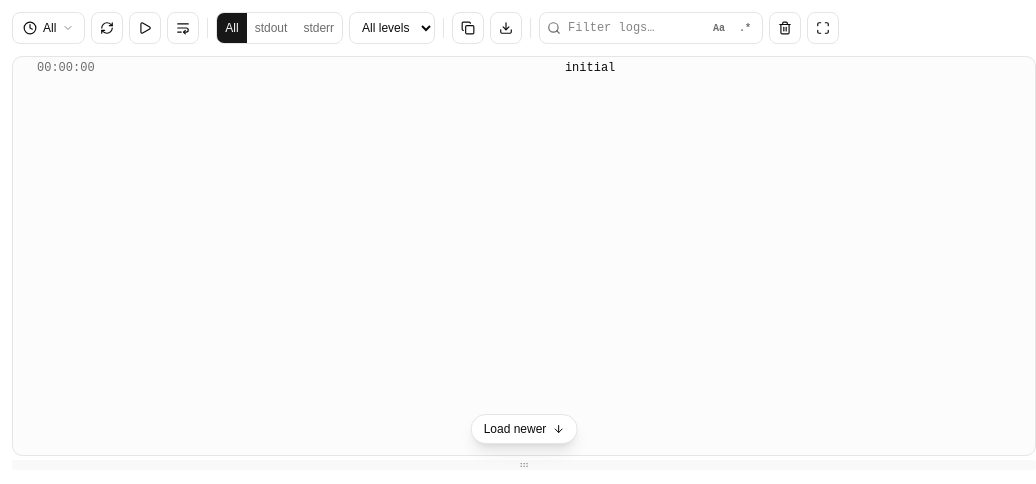
LogViewer live tail resilience › gives up after the retry cap and offers to resume
The width and height of the screenshot is (1036, 484).
Click the button titled "Live tail" at [145, 28], box [129,12,161,44]
Wait 63000 ms
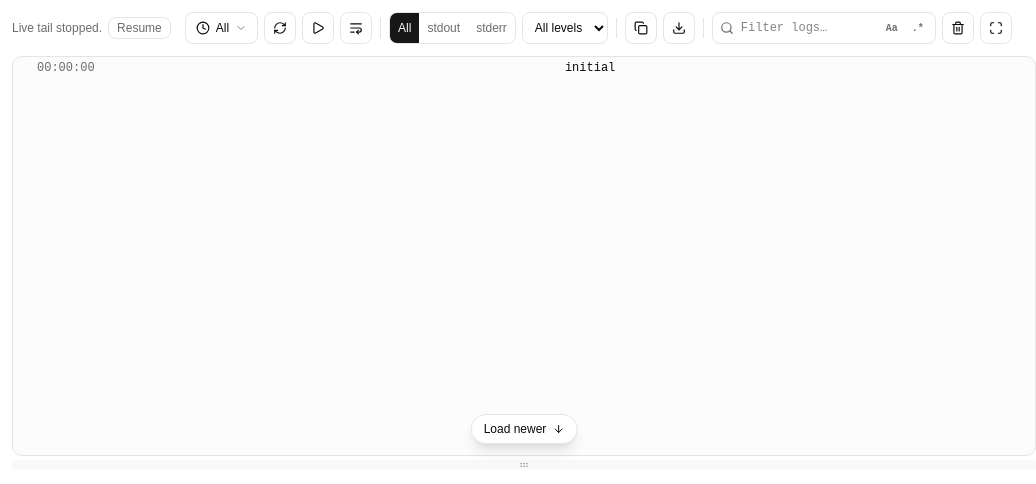
Expected: the text "Live tail stopped." is shown, [12,20,102,36]
